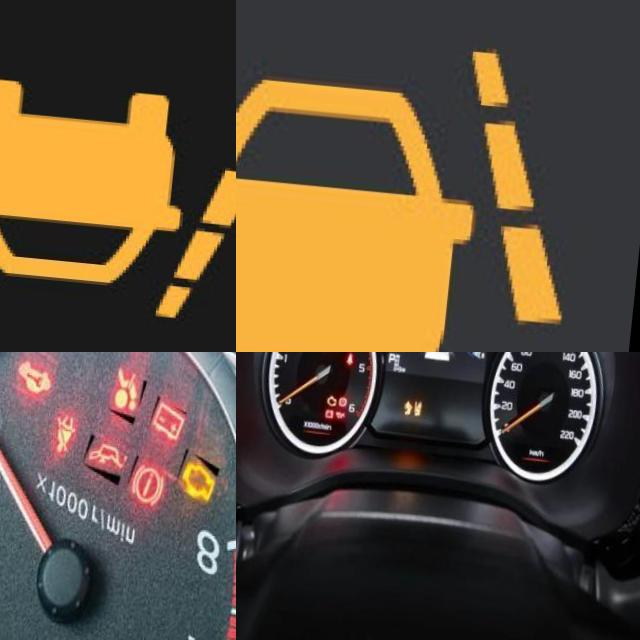Seat Belt: (351, 352, 361, 362)
